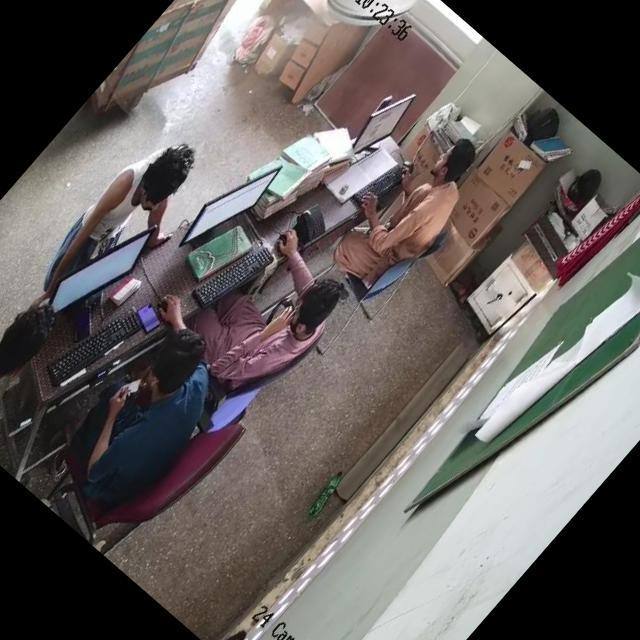person: (56, 307, 258, 518), (34, 120, 209, 310), (192, 238, 358, 408), (341, 127, 498, 296), (0, 293, 66, 433)
